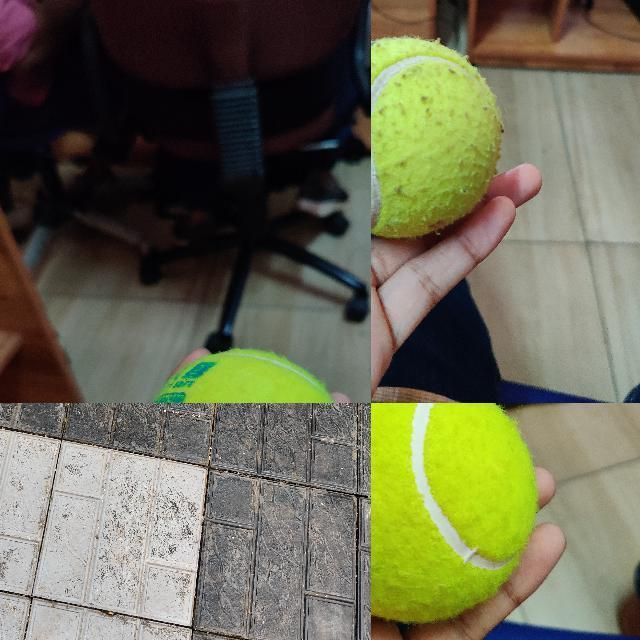tennis-ball: (371, 403, 536, 621), (371, 35, 504, 239), (136, 347, 357, 402)
